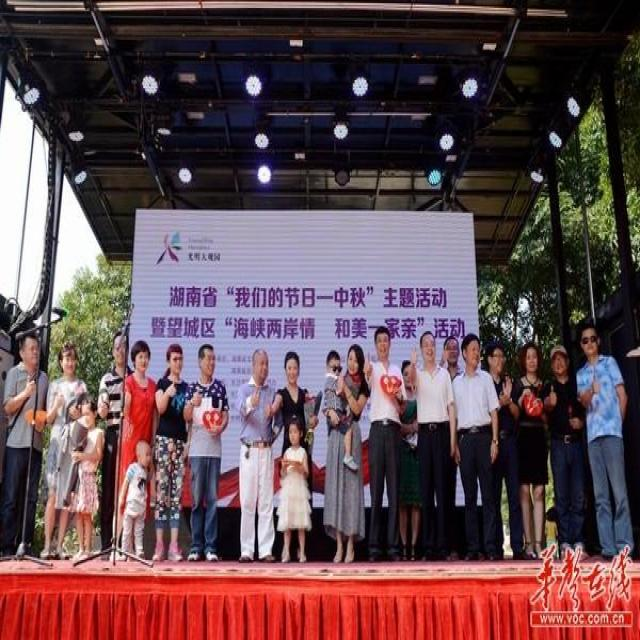non-fight: (573, 315, 632, 562), (447, 331, 509, 562), (403, 325, 458, 559), (354, 323, 407, 560), (177, 342, 232, 564), (0, 318, 48, 562), (268, 350, 317, 565), (44, 344, 84, 554), (239, 346, 278, 554), (326, 344, 362, 558), (70, 398, 106, 565)
